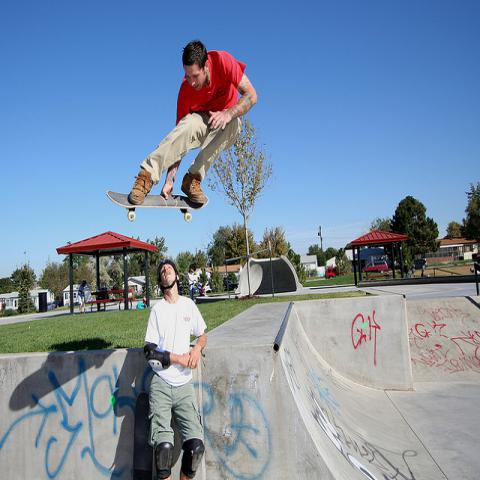car: (362, 261, 388, 273), (222, 279, 238, 292), (324, 268, 342, 279)
